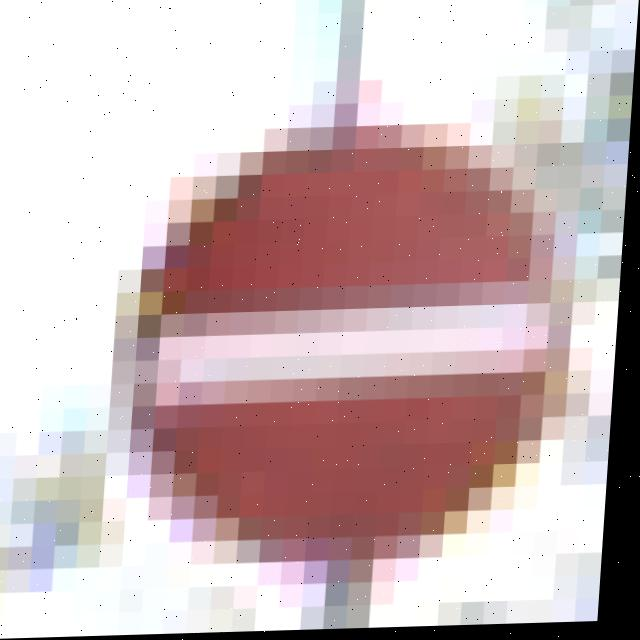road_rough: (101, 99, 611, 588)
